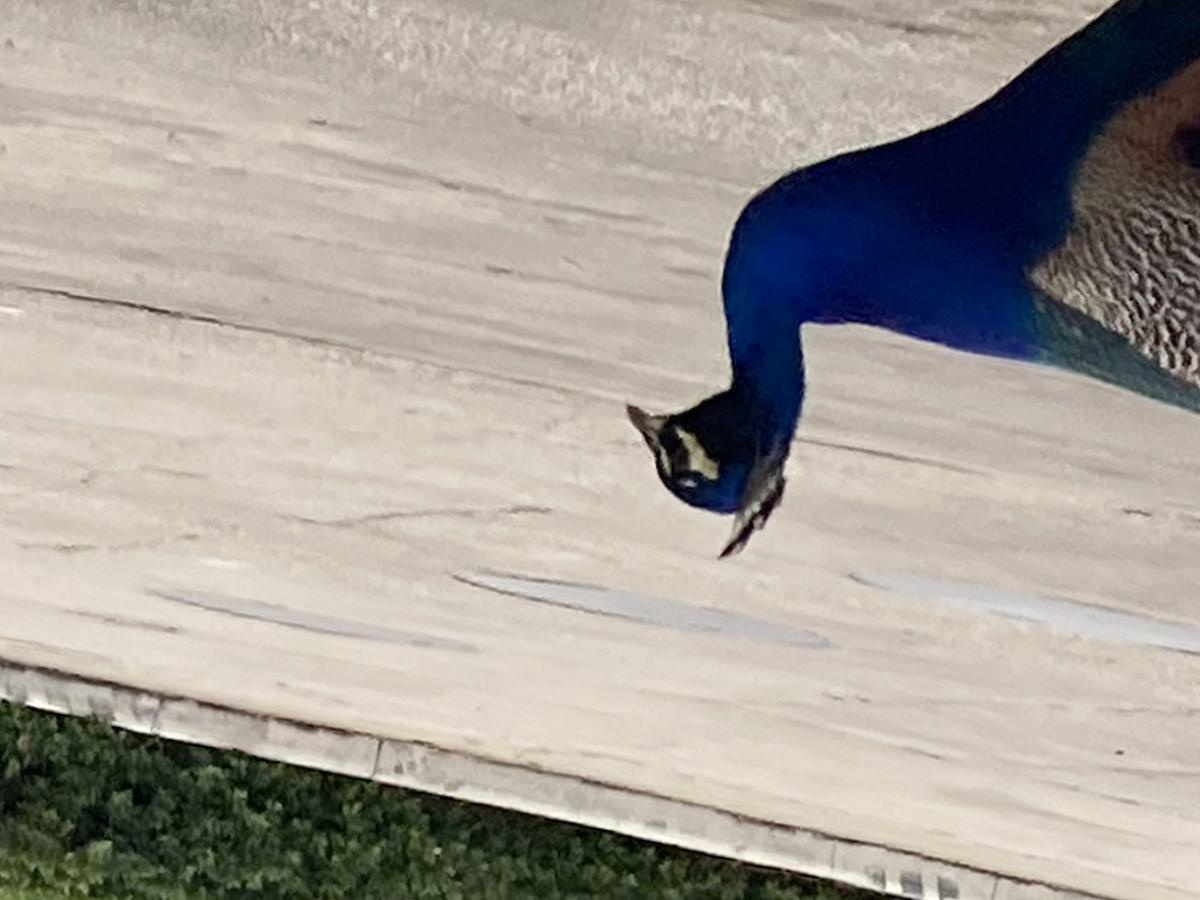peacock: (594, 55, 1200, 591)
